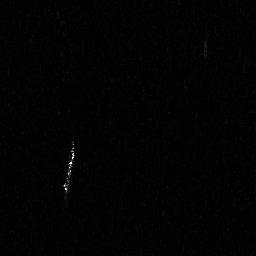ship: (63, 146, 76, 191)
